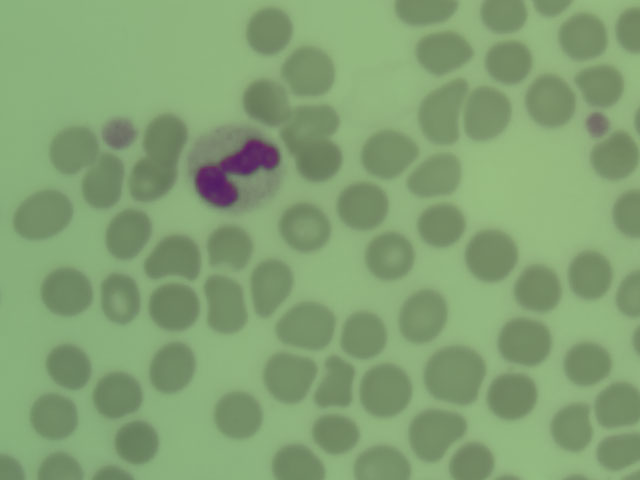Platelets: (105, 120, 134, 145)
RBC: (414, 77, 462, 145), (422, 345, 481, 397), (506, 260, 565, 311), (10, 193, 70, 240), (485, 370, 545, 417), (354, 365, 414, 412), (458, 230, 518, 277), (275, 300, 335, 347), (359, 231, 419, 278), (143, 232, 203, 279), (39, 265, 92, 318), (125, 149, 174, 205), (41, 124, 99, 170), (521, 73, 573, 124), (27, 388, 78, 440), (462, 82, 510, 137), (97, 273, 151, 321), (360, 131, 414, 177), (150, 335, 193, 392), (568, 245, 611, 301), (240, 4, 292, 50), (76, 154, 121, 207), (556, 12, 603, 62), (482, 36, 526, 89), (281, 101, 335, 144), (265, 351, 309, 403), (401, 288, 440, 345), (412, 150, 457, 199), (501, 316, 545, 366), (339, 184, 386, 229), (246, 75, 289, 124), (202, 229, 251, 272), (91, 370, 141, 412), (286, 42, 327, 93), (291, 133, 339, 176), (212, 390, 257, 434), (420, 28, 466, 71), (282, 202, 328, 245), (203, 268, 235, 329), (42, 342, 87, 385), (549, 400, 590, 446), (254, 258, 286, 316), (141, 110, 178, 160), (344, 308, 384, 354), (591, 140, 638, 179), (593, 428, 640, 467), (575, 66, 622, 105), (422, 205, 465, 247), (594, 384, 640, 423), (320, 352, 353, 404), (315, 412, 360, 449), (565, 343, 608, 381), (40, 442, 83, 480), (116, 419, 159, 457), (276, 442, 319, 480), (364, 442, 407, 480), (447, 442, 490, 480), (389, 1, 460, 24), (104, 210, 141, 253), (613, 260, 640, 316), (413, 405, 445, 451), (612, 186, 640, 237), (473, 1, 527, 25), (613, 6, 640, 53)
WBC: (194, 126, 278, 209)
